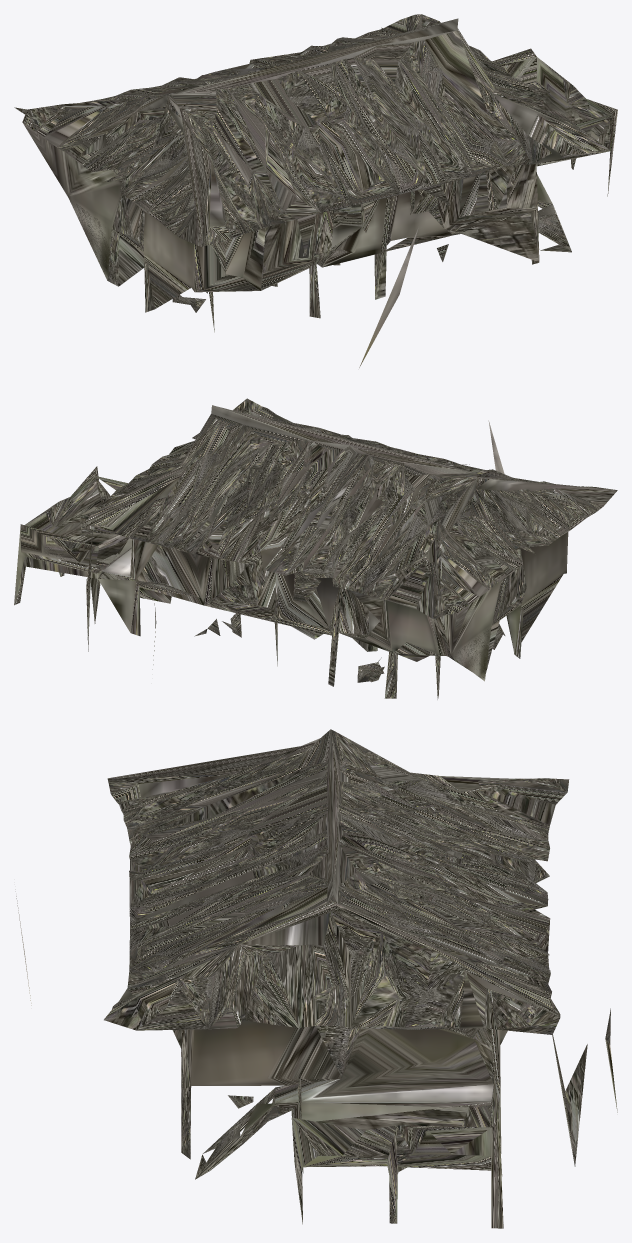
Rendered from bq_stilt.lod2.glb.
3 renders of one model, top to bottom at view 1: azimuth 30°, elevation 25°; view 2: azimuth 150°, elevation 25°; view 3: azimuth 270°, elevation 25°, orthographic. The views are drawn at different scales.
Visible parts, largest first — view 1: mesh_node; view 2: mesh_node; view 3: mesh_node.
Boxes of the visible parts, left/top/right/bottom form: mesh_node: left=14, top=14, right=617, bottom=367; mesh_node: left=14, top=398, right=617, bottom=699; mesh_node: left=15, top=729, right=617, bottom=1228.
Bounding box in the file's own units: 1.89 × 0.7487 × 1.63.
Materials: 1 (1 with a texture image).
